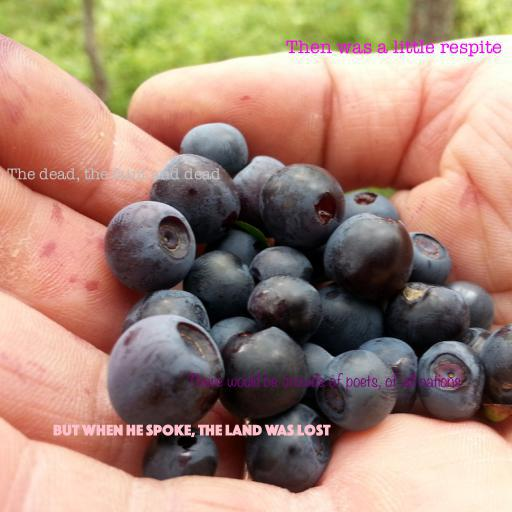American Typewriter: (286, 40, 502, 57), (7, 168, 221, 183)
Noteworthy: (187, 372, 461, 393)
Phosphate: (52, 424, 330, 438)
